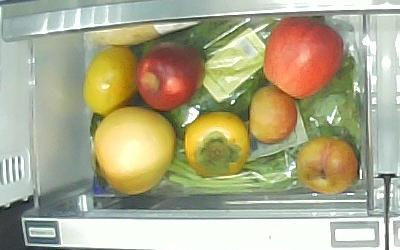apple: (263, 17, 344, 101), (135, 42, 205, 111)
grapefruit: (94, 107, 177, 195)
persimmon: (185, 112, 249, 178), (82, 47, 139, 117)
prune: (297, 137, 358, 195), (249, 84, 297, 145)
